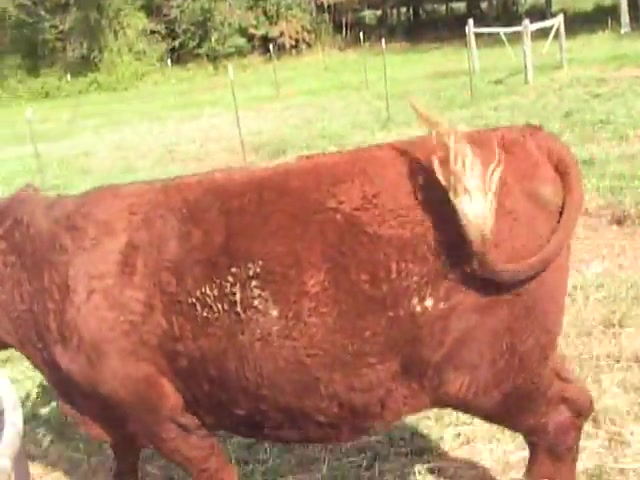cow: (1, 122, 597, 480)
